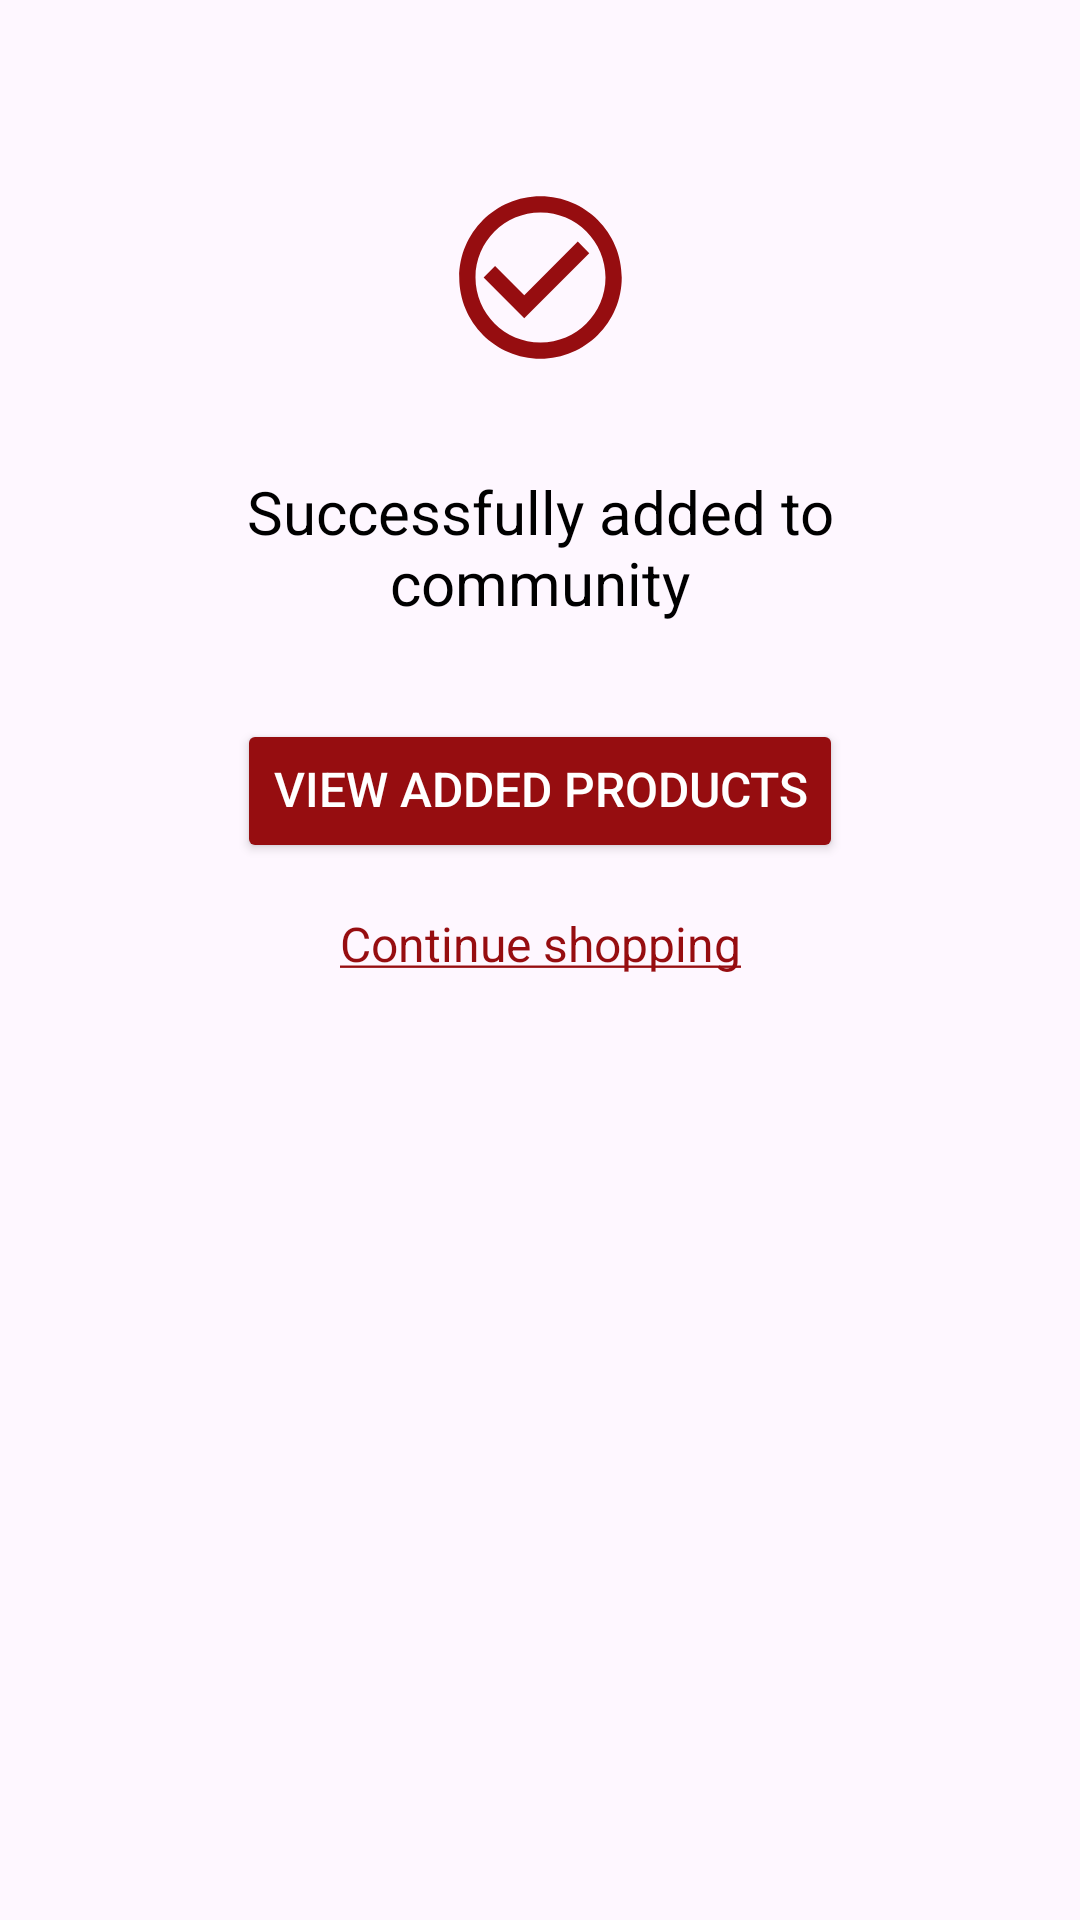

Screen size 1080w x 1920h. Icon name, then its center in pixels as (x,y):
check circle: (540,277)
